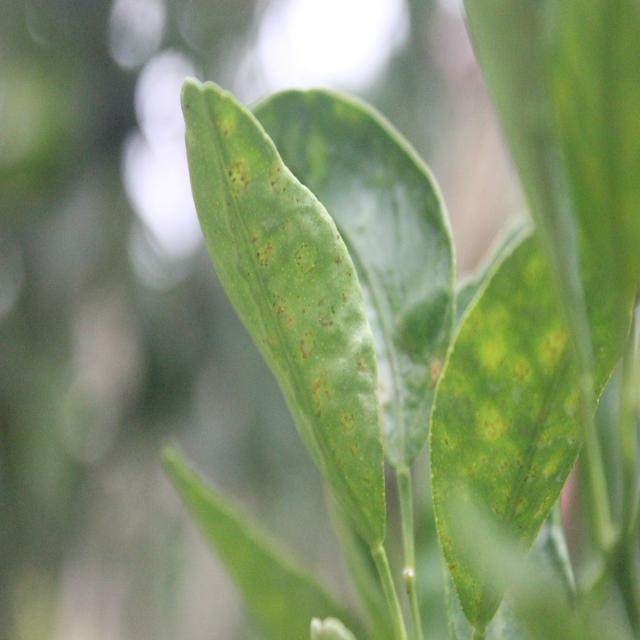canker: (210, 119, 380, 512)
